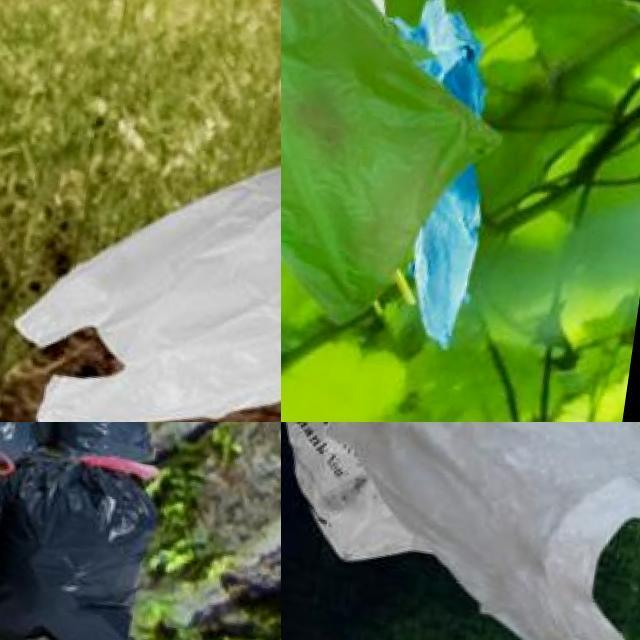waste: (6, 110, 281, 422), (281, 0, 521, 329), (342, 422, 640, 640), (0, 448, 176, 640), (282, 422, 482, 570), (55, 422, 167, 464)
